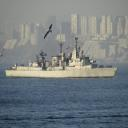Fragata: (6, 40, 120, 80)
